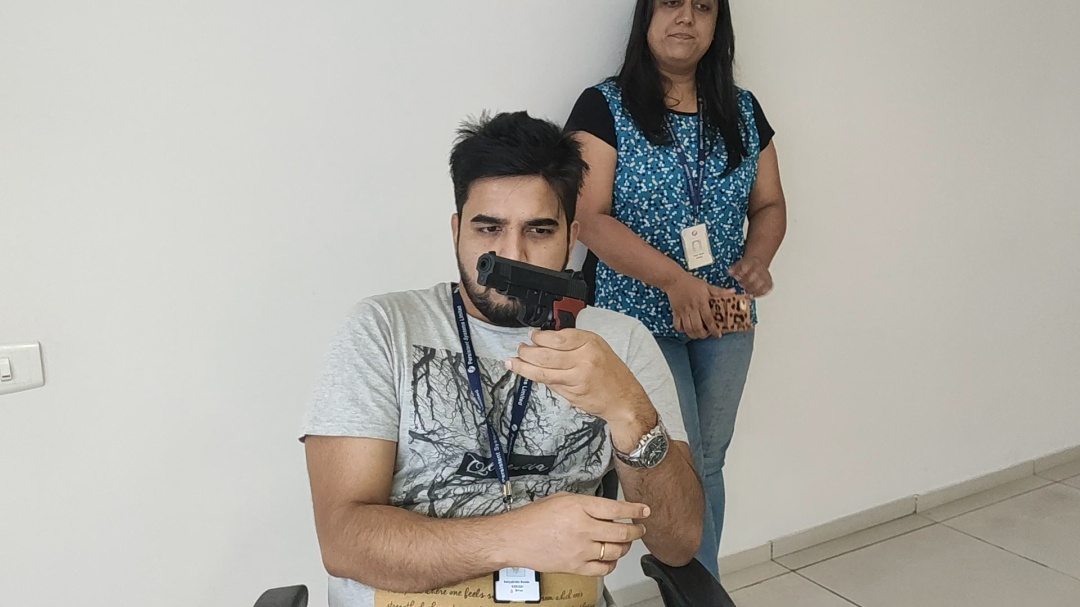gun: (310, 34, 690, 532)
